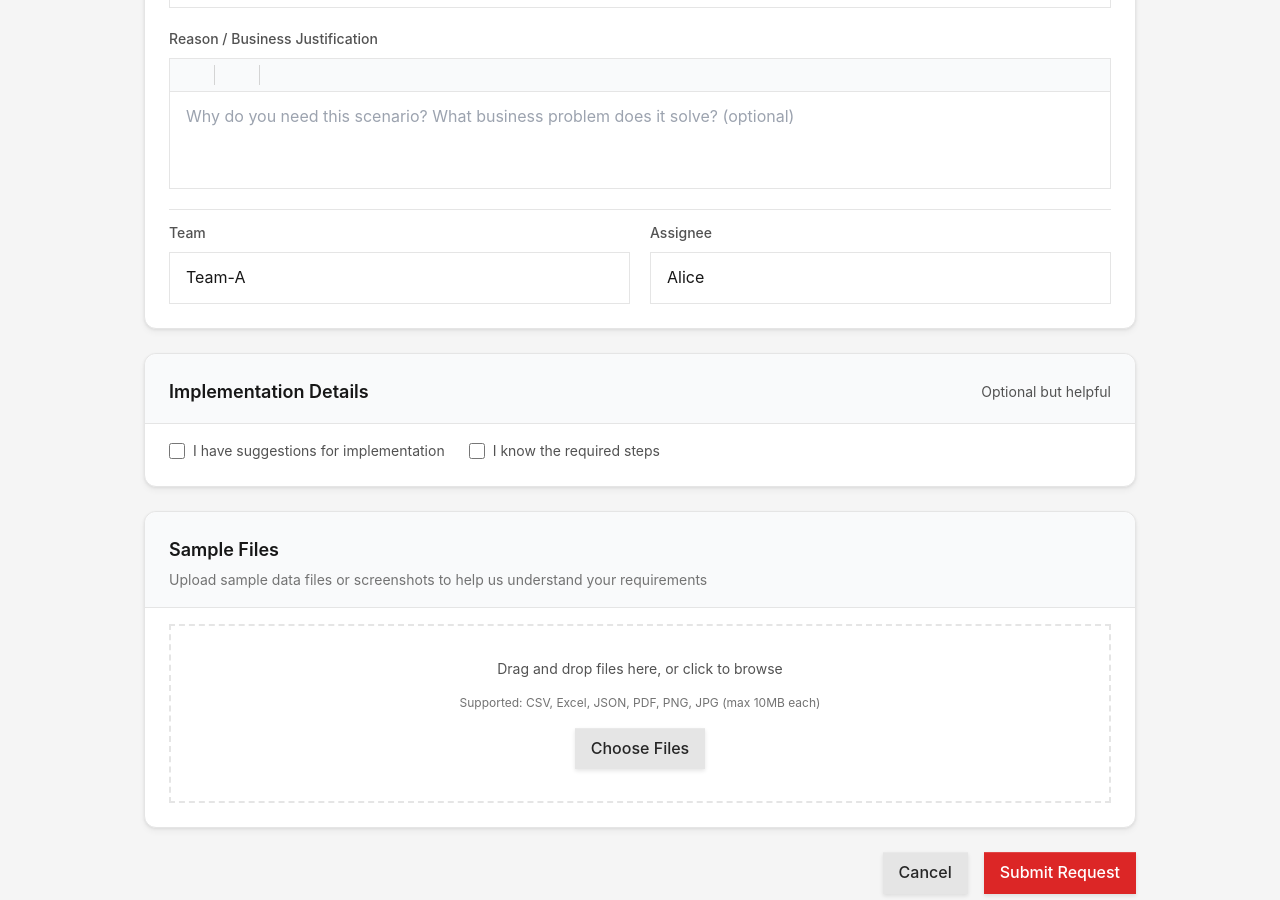
Test case: AskScenarioPage › does not add a step with empty description
This screenshot has width=1280, height=900.
(page scrolled)
Expected: the heading "Implementation Details" is shown, [169, 378, 369, 407]
Click the checkbox named "knows_steps" at [477, 451], box [469, 443, 485, 459]
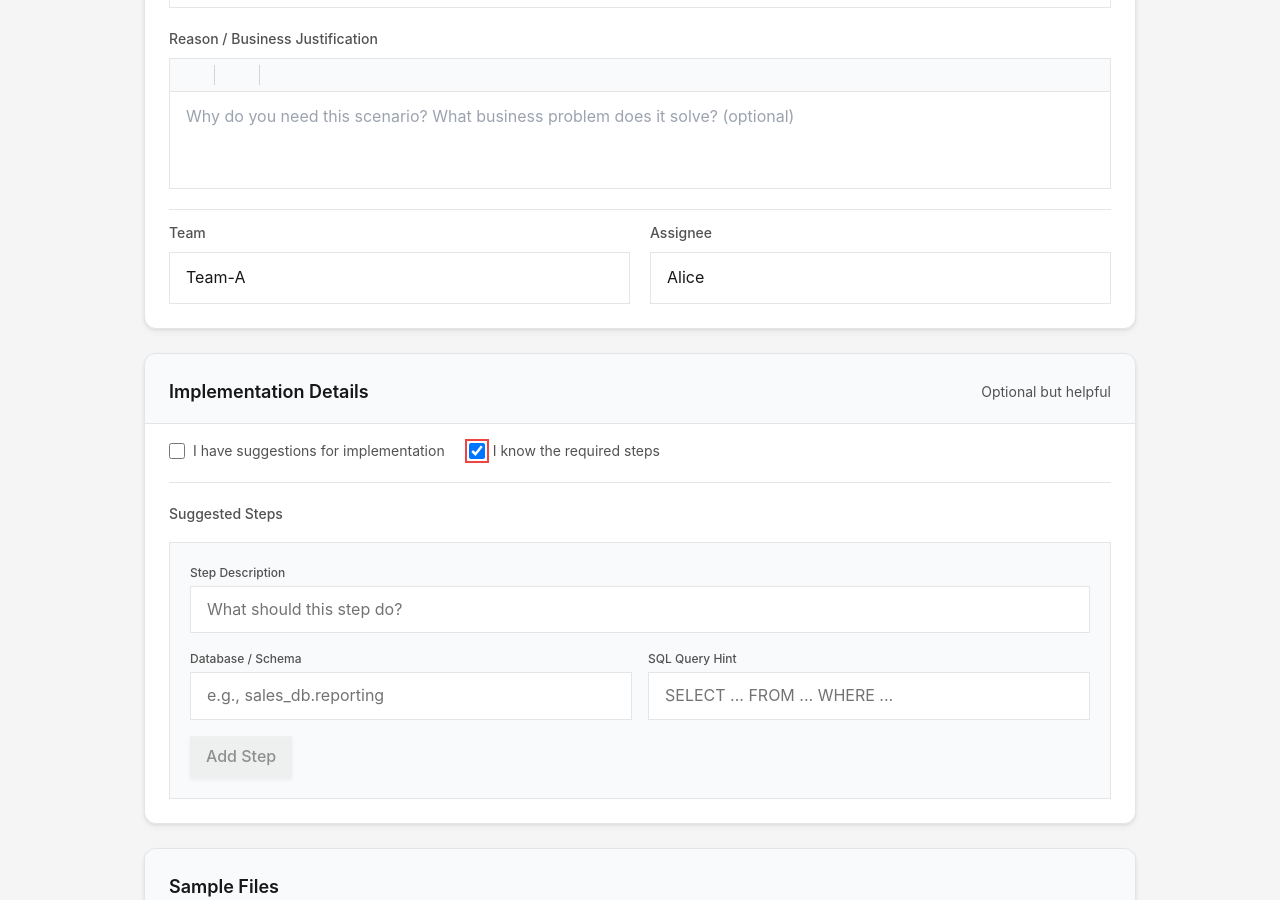
Now the field with placeholder "What should this step do?" is shown, box [190, 586, 1090, 633]
Now the button "Add Step" is disabled, box [190, 736, 292, 778]
